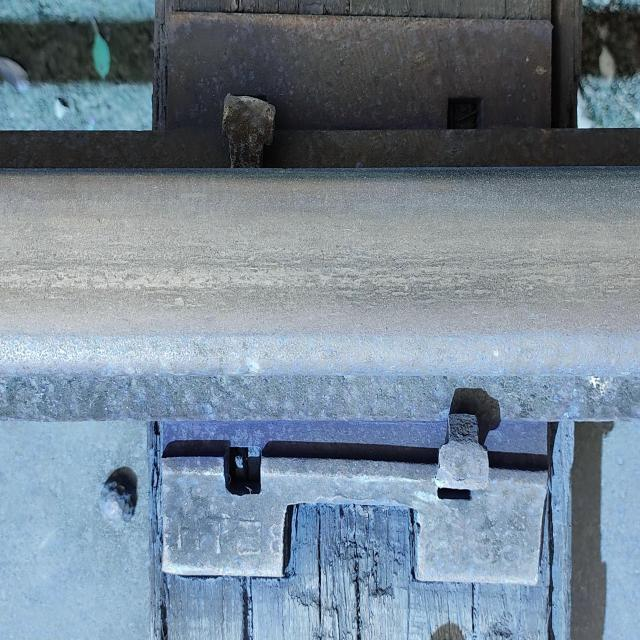Missing Dogscrew: (224, 446, 261, 495), (447, 98, 481, 129)
